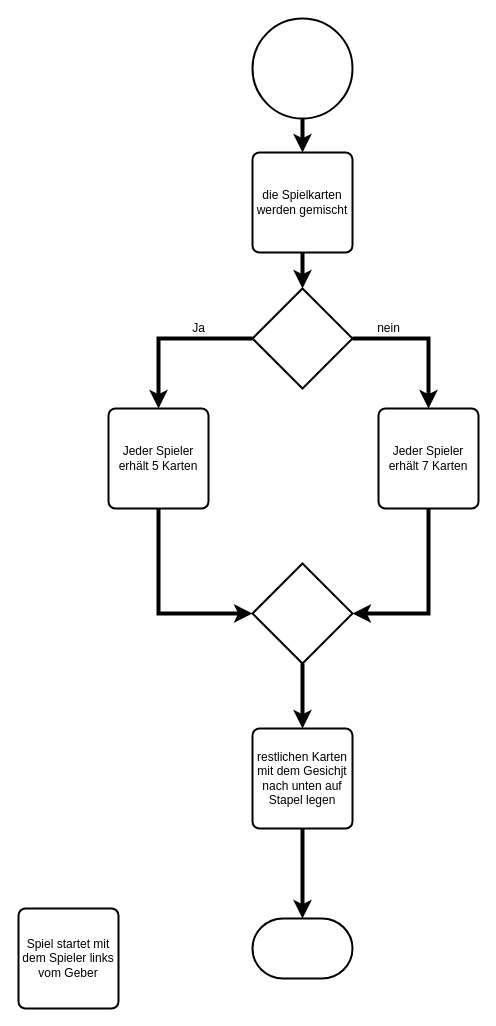
Some shapes in this 496 by 1026 pixel diagram are drawn without their labels. Each missing label, with the box of its shape:
52 Spielkarten, 2-6 Spieler: (251, 17, 353, 119)
Ende der Vorbereitung: (251, 917, 353, 979)
mehr als 3 Mitspieler: (251, 287, 353, 389)
